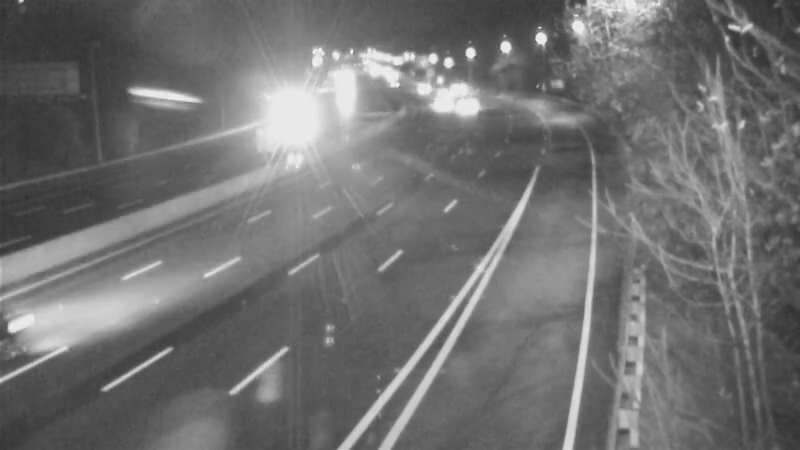vehicle: (368, 57, 418, 107), (394, 64, 444, 114), (432, 60, 482, 110), (419, 68, 469, 118), (417, 78, 467, 128), (442, 82, 492, 132), (270, 93, 320, 143)
